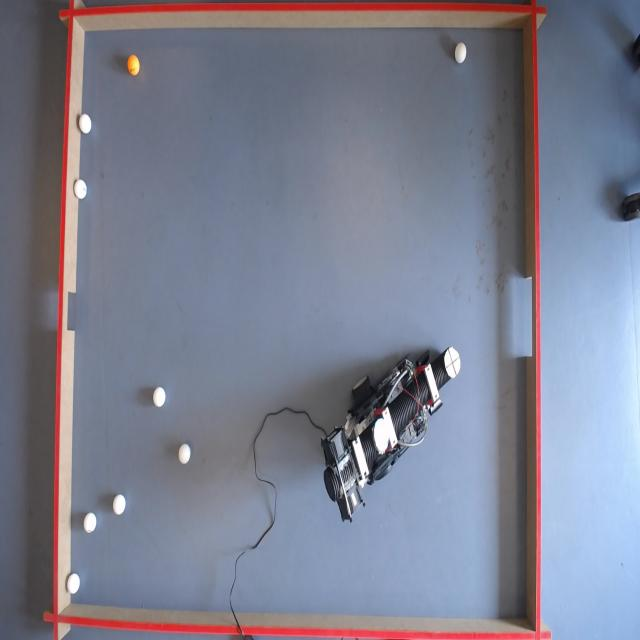orange: (127, 55, 141, 75)
robot: (312, 345, 460, 526)
robot-front: (443, 346, 462, 378)
robot-rear: (374, 418, 392, 451)
white: (73, 178, 89, 200), (83, 511, 97, 533), (112, 494, 126, 516), (152, 386, 166, 408), (79, 112, 93, 134), (68, 572, 81, 594), (178, 445, 191, 466), (455, 42, 468, 63)
